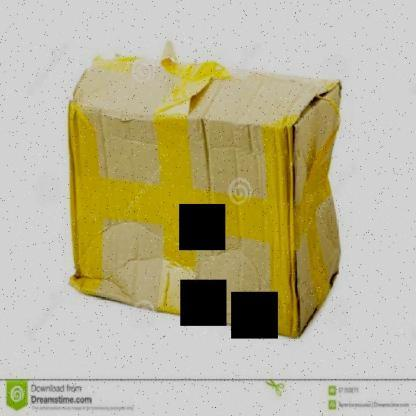-: (62, 45, 353, 338)
